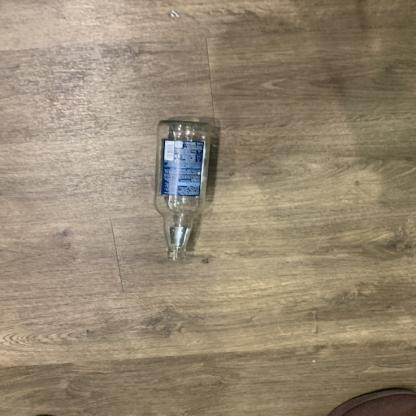trash: (150, 119, 214, 261)
